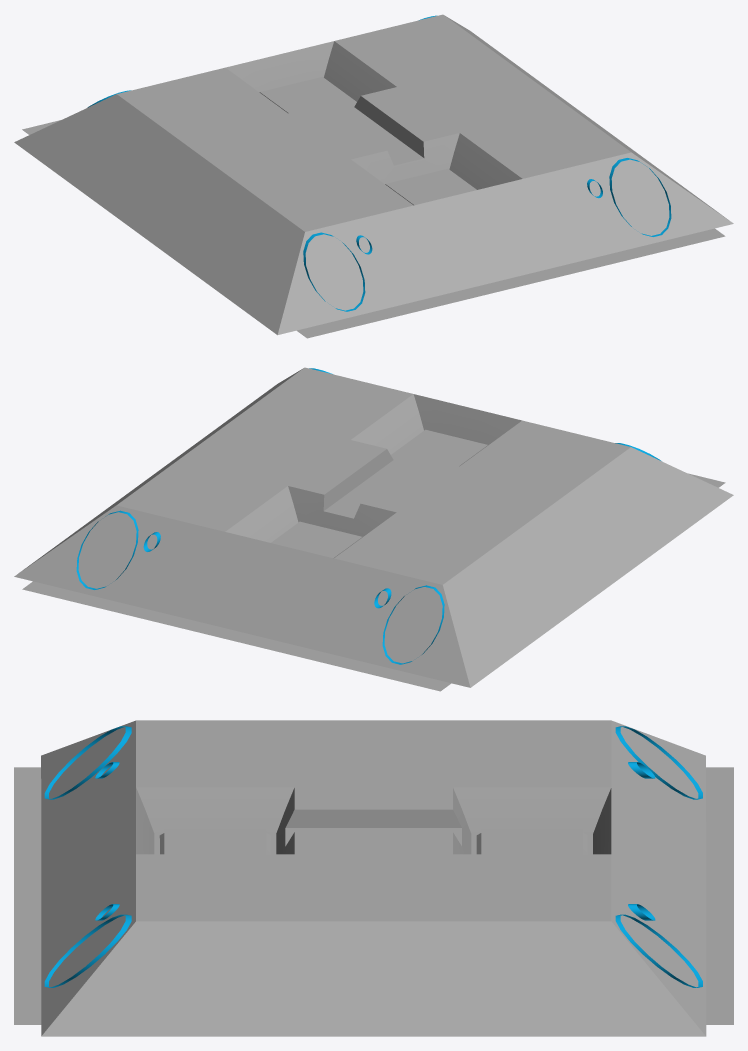
File: OutsideCorridorRoof.fbx
3 renders of one model, top to bottom at view 1: azimuth 30°, elevation 25°; view 2: azimuth 150°, elevation 25°; view 3: azimuth 270°, elevation 25°, orthographic. The views are drawn at different scales.
Parts seen in each view (by area): view 1: HallwayCeiling1; view 2: HallwayCeiling1; view 3: HallwayCeiling1.
Boxes of the visible parts, bbox=[...] form: HallwayCeiling1: bbox=[14, 14, 733, 338]; HallwayCeiling1: bbox=[14, 367, 733, 691]; HallwayCeiling1: bbox=[14, 720, 733, 1036].
Size of the model in its own units: 23.99 by 3.52 by 25.98.
